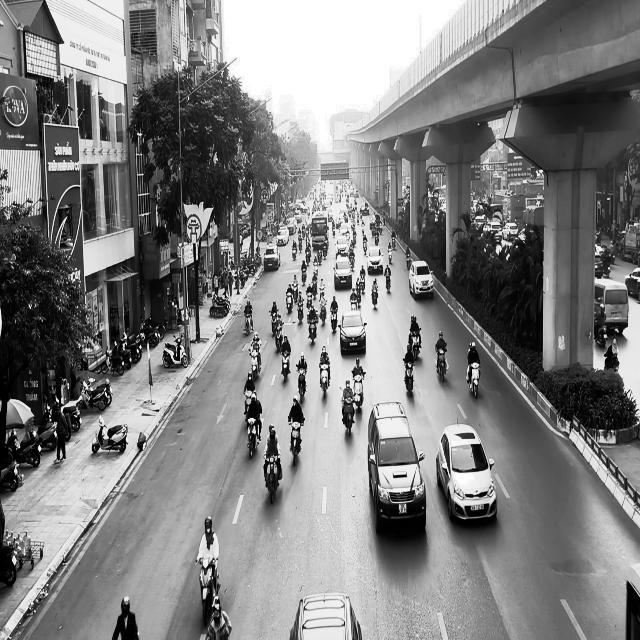car: (367, 401, 426, 533), (436, 419, 497, 522), (292, 592, 363, 640), (339, 310, 367, 355), (408, 259, 434, 300), (263, 244, 280, 271)
motorbike: (196, 554, 220, 626), (92, 415, 128, 454), (263, 452, 282, 504), (339, 386, 357, 436), (162, 334, 188, 368), (288, 418, 304, 466), (245, 414, 261, 458), (352, 370, 366, 412), (466, 362, 481, 398), (402, 357, 414, 396), (435, 348, 448, 382), (296, 364, 307, 403), (249, 346, 261, 380), (319, 363, 330, 398), (410, 329, 421, 359), (274, 320, 284, 352), (281, 349, 290, 383), (307, 314, 317, 344), (244, 310, 252, 336), (330, 307, 338, 331), (371, 285, 378, 308), (385, 274, 391, 294)
